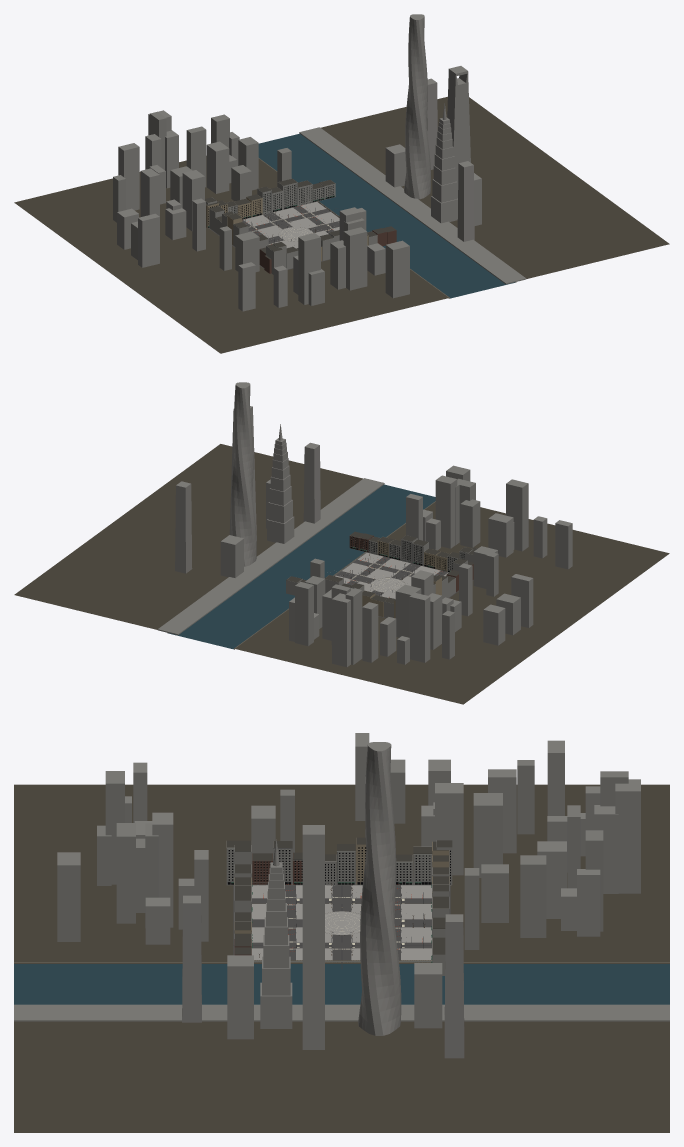
Rendered from City_shanghai.glb.
3 views of the same model, one above another, from view 1: azimuth 30°, elevation 25°; view 2: azimuth 150°, elevation 25°; view 3: azimuth 270°, elevation 25° (orthographic). The views are drawn at different scales.
Visible parts, largest first — view 1: concrete_231, concrete_187, skylineWindows_373, skylineWindows_362, gravel_75, gravel_78, gravel_67, gravel_20, skylineWindows_386, skylineWindows_384, skylineWindows_346, water_312 (+77 smaller); view 2: skylineWindows_348, gravel_69, skylineWindows_386, skylineWindows_358, gravel_20, concrete_231, gravel_71, gravel_64, concrete_200, water_308, gravel_73, gravel_17 (+84 smaller); view 3: skylineWindows_373, gravel_69, gravel_67, gravel_75, gravel_71, gravel_78, skylineWindows_346, gravel_65, water_312, concrete_230, gravel_64, gravel_73 (+115 smaller).
Part boxes in pixels (<box>): concrete_231: <box>330,220,367,290</box>; concrete_187: <box>246,143,323,214</box>; skylineWindows_373: <box>386,143,430,199</box>; skylineWindows_362: <box>165,130,229,193</box>; gravel_75: <box>503,225,585,264</box>; gravel_78: <box>519,192,595,231</box>; gravel_67: <box>476,201,544,236</box>; gravel_20: <box>172,276,238,314</box>; skylineWindows_386: <box>431,144,457,223</box>; skylineWindows_384: <box>457,164,481,241</box>; skylineWindows_346: <box>141,168,204,230</box>; water_312: <box>410,249,482,287</box>; skylineWindows_348: <box>362,597,416,664</box>; gravel_69: <box>97,576,180,611</box>; skylineWindows_386: <box>252,480,294,543</box>; skylineWindows_358: <box>430,596,505,649</box>; gravel_20: <box>507,565,589,602</box>; concrete_231: <box>455,483,480,547</box>; gravel_71: <box>101,543,175,578</box>; gravel_64: <box>139,562,220,587</box>; concrete_200: <box>448,546,498,597</box>; water_308: <box>236,582,294,619</box>; gravel_73: <box>55,566,140,592</box>; gravel_17: <box>430,628,511,665</box>; skylineWindows_373: <box>358,945,442,1035</box>; gravel_69: <box>506,1029,628,1087</box>; gravel_67: <box>137,1029,259,1087</box>; gravel_75: <box>55,1029,177,1087</box>; gravel_71: <box>424,1059,546,1117</box>; gravel_78: <box>137,1066,259,1125</box>; skylineWindows_346: <box>421,769,516,875</box>; gravel_65: <box>342,1029,423,1087</box>; water_312: <box>55,964,177,1004</box>; concrete_230: <box>57,836,158,941</box>; gravel_64: <box>424,1029,546,1080</box>; gravel_73: <box>506,1066,628,1125</box>.
Size of the model in its own units: 879 by 332 by 700.
